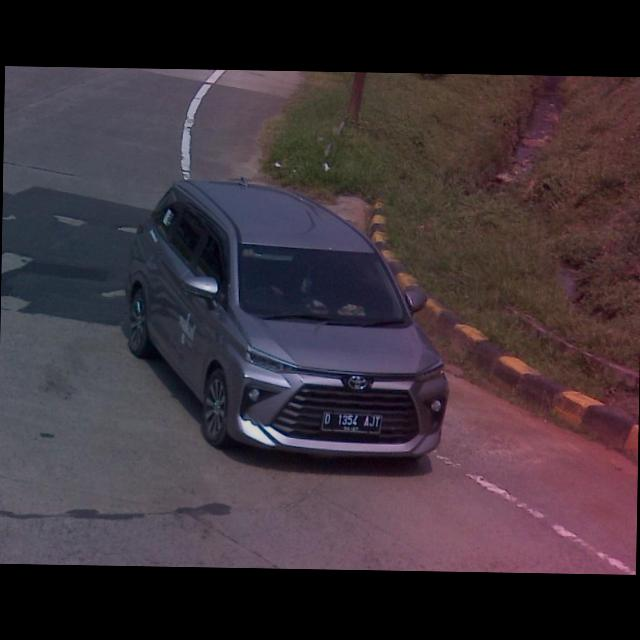plate: (320, 410, 384, 435)
